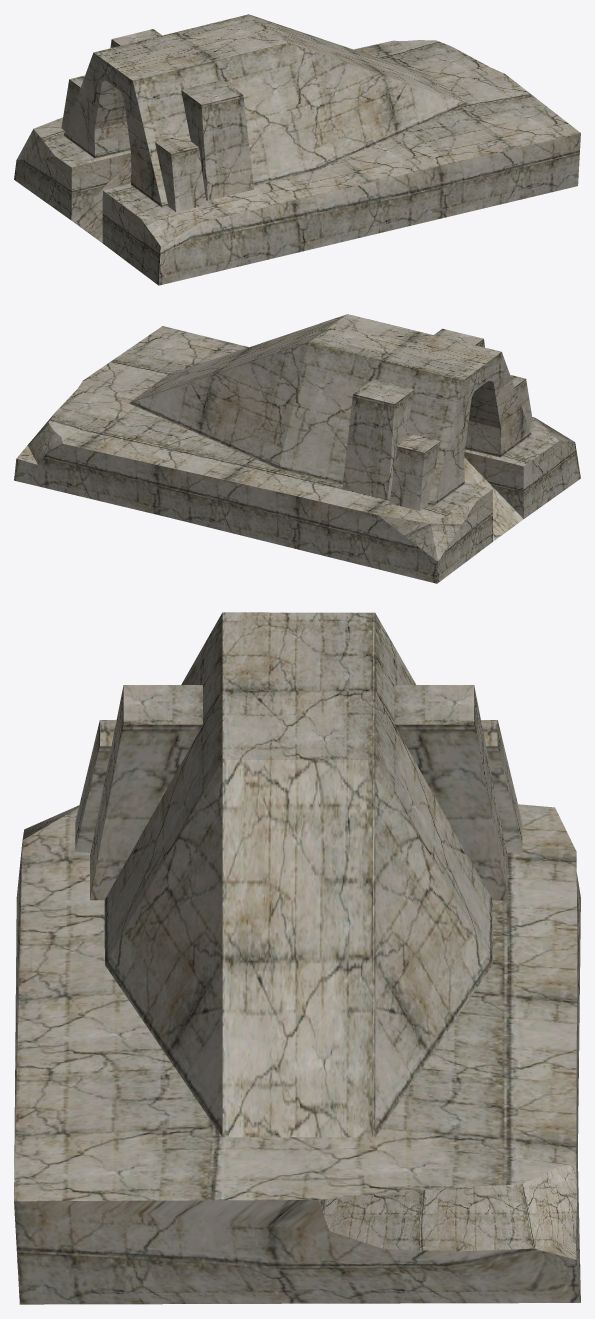
The model's file is thm_yavn_jedi_enclave_light_r0_mesh_r0_l2.fbx.
3 renders of one model, top to bottom at view 1: azimuth 30°, elevation 25°; view 2: azimuth 150°, elevation 25°; view 3: azimuth 270°, elevation 25°, orthographic. The views are drawn at different scales.
Visible parts, largest first — view 1: mesh_node; view 2: mesh_node; view 3: mesh_node.
Boxes of the visible parts, <box> form: mesh_node: <box>14,14,580,285</box>; mesh_node: <box>14,314,580,583</box>; mesh_node: <box>14,612,580,1304</box>.
Size of the model in its own units: 16.37 by 5.99 by 9.68.
